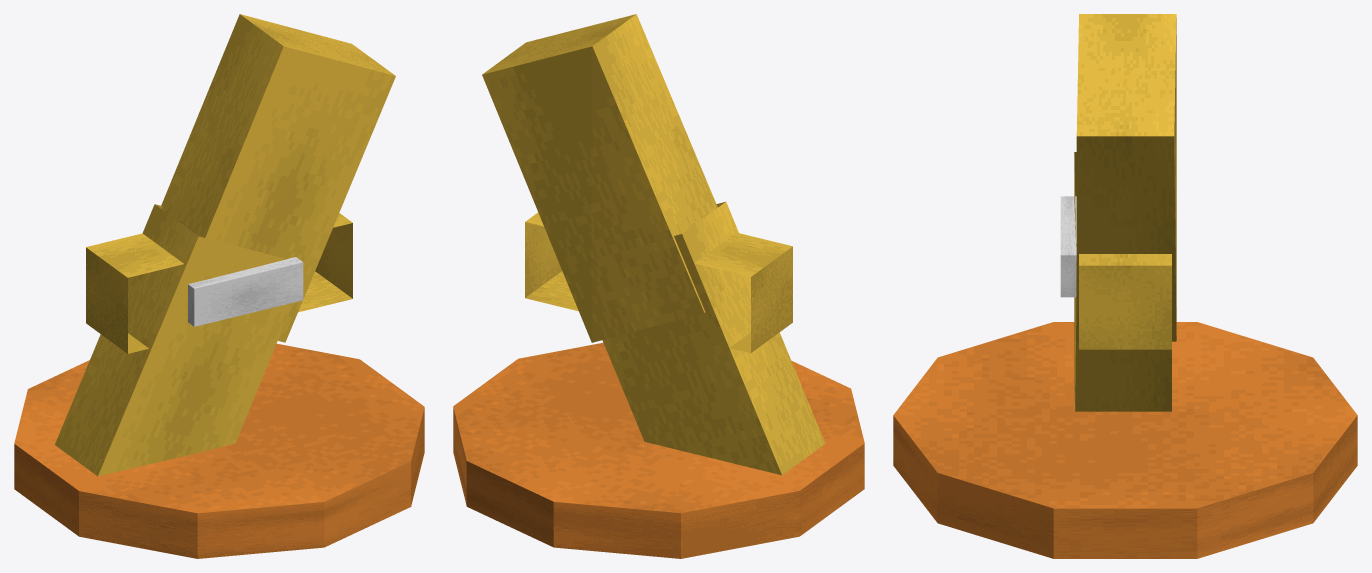
The model's file is pickup_haste.glb.
3 renders of one model, left to right at view 1: azimuth 30°, elevation 25°; view 2: azimuth 150°, elevation 25°; view 3: azimuth 270°, elevation 25°, orthographic. The views are drawn at different scales.
Visible parts, largest first — view 1: pickup_haste; view 2: pickup_haste; view 3: pickup_haste.
Boxes of the visible parts, x1,y1,x2,y2 form: pickup_haste: (14,14,424,558); pickup_haste: (453,14,864,558); pickup_haste: (893,14,1357,558).
Size of the model in its own units: 0.9511 by 1.22 by 1.
Materials: 1 (1 with a texture image).
